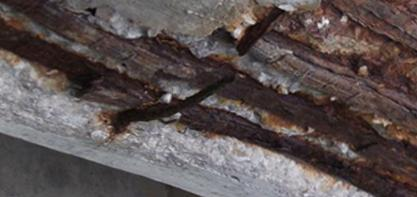rust: (276, 10, 417, 182), (105, 111, 142, 135)
